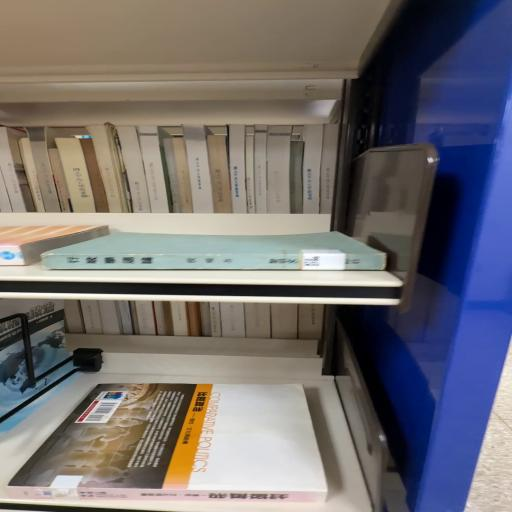flat: (10, 384, 329, 505), (42, 233, 387, 272)
